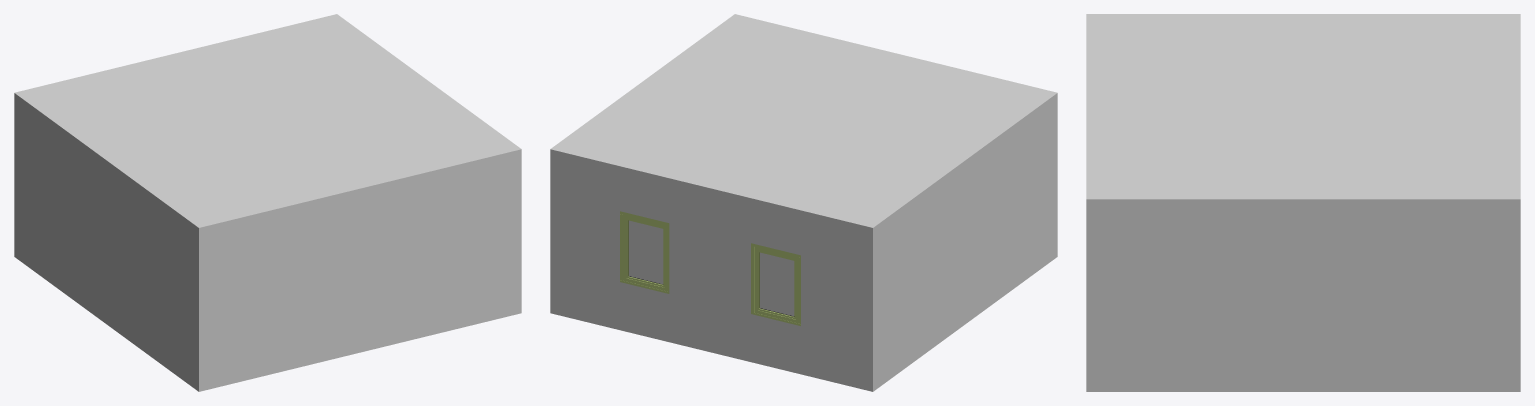
Rendered from menuScene.fbx.
The picture shows the model from 3 angles, left to right: view 1: azimuth 30°, elevation 25°; view 2: azimuth 150°, elevation 25°; view 3: azimuth 270°, elevation 25°; orthographic projection. The views are drawn at different scales.
Parts seen in each view (by area): view 1: Box003; view 2: Box003, zerkalo003, zerkalo, #WIN0003_Window, #WIN0003_Window001; view 3: Box003.
Part boxes in pixels (left/top/right/bottom): Box003: left=14, top=14, right=521, bottom=391; Box003: left=550, top=14, right=1057, bottom=391; zerkalo003: left=629, top=220, right=663, bottom=284; zerkalo: left=760, top=252, right=794, bottom=316; #WIN0003_Window: left=751, top=243, right=800, bottom=325; #WIN0003_Window001: left=620, top=211, right=669, bottom=293; Box003: left=1086, top=14, right=1520, bottom=391.
Bounding box in the file's own units: 24.37 × 11.83 × 24.16.
